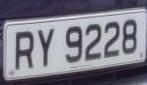2: (82, 21, 103, 63), (102, 19, 122, 59)
8: (121, 16, 138, 59)
9: (62, 22, 86, 67)
R: (10, 25, 37, 72)
Y: (35, 25, 60, 72)
